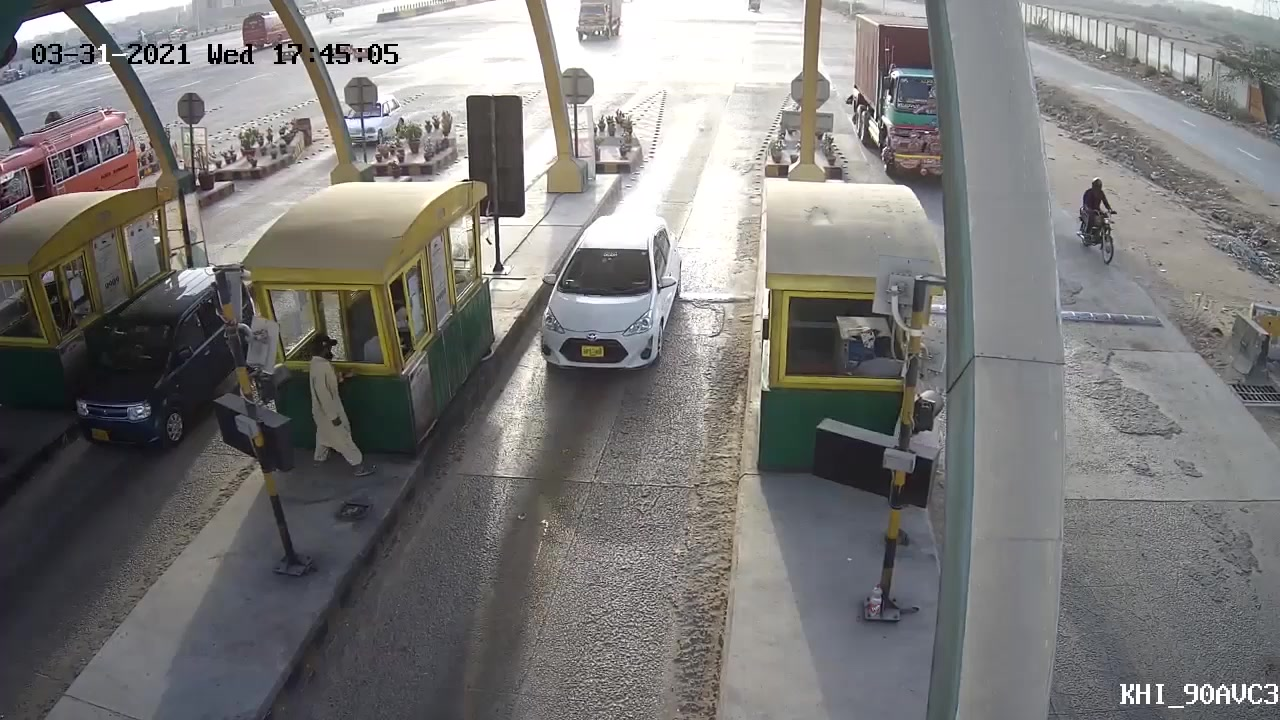F1: (527, 213, 691, 379)
